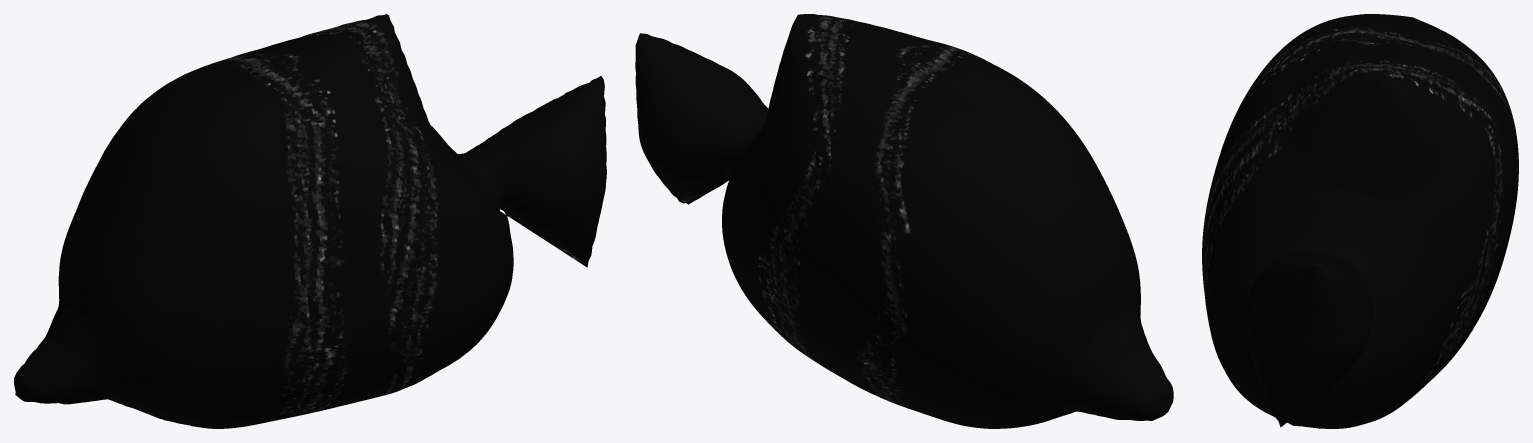
The model's file is G11_Shahidfish.fbx.
3 renders of one model, left to right at view 1: azimuth 30°, elevation 25°; view 2: azimuth 150°, elevation 25°; view 3: azimuth 270°, elevation 25°, orthographic. The views are drawn at different scales.
Visible parts, largest first — view 1: root; view 2: root; view 3: root.
Boxes of the visible parts, x1,y1,x2,y2 form: root: (14,14,606,428); root: (635,14,1173,428); root: (1202,14,1518,428).
Size of the model in its own units: 0.3863 by 0.2361 by 0.1821.
Materials: 1 (1 with a texture image).
